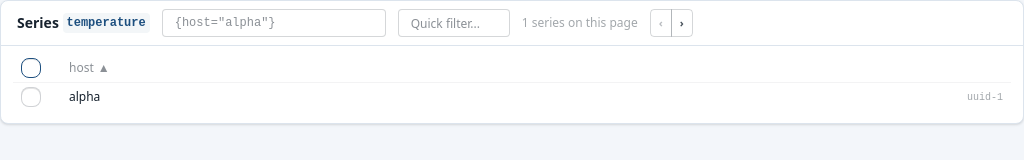
SeriesTable › pages › goes forward with the bookmark of the server, and back
Check: the text "uuid-1" is shown, box [556,83,1011,111]
Check: the button named "Previous page" is disabled, box [650,9,672,37]
Click the button named "Next page".
click(682, 23)  # box [671,9,693,37]
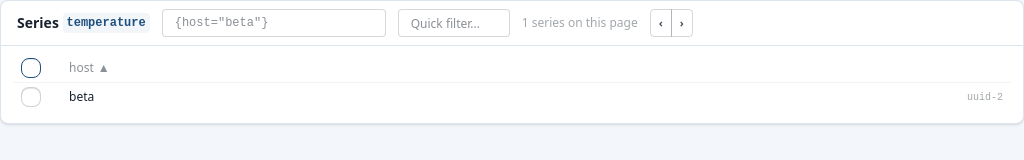
Check: the text "uuid-2" is shown, box [556,83,1011,111]
Click the button named "Next page".
click(682, 23)  # box [671,9,693,37]
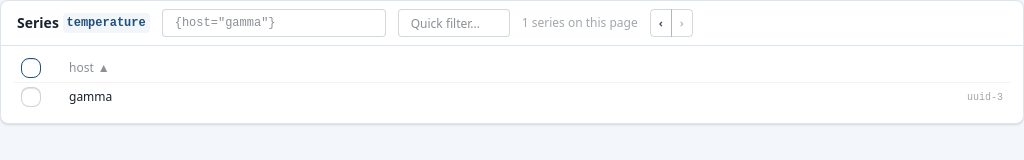
Check: the text "uuid-3" is shown, box [567,83,1011,111]
Click the button named "Previous page".
click(661, 23)  # box [650,9,672,37]
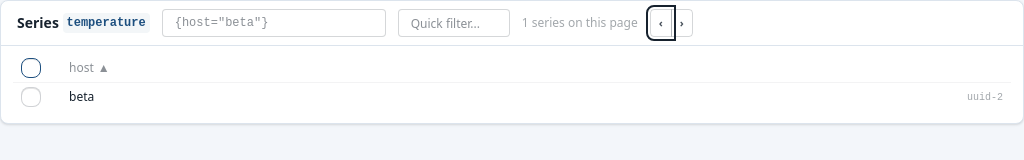
Check: the text "uuid-2" is shown, box [556,83,1011,111]
Click the button named "Previous page".
click(661, 23)  # box [650,9,672,37]
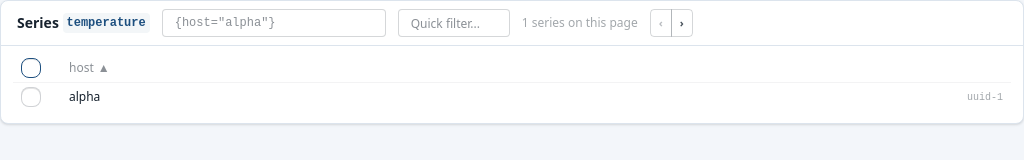
Check: the text "uuid-1" is shown, box [556,83,1011,111]
